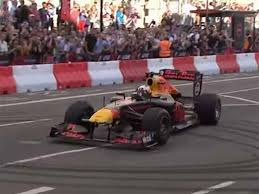FormulaOneCar: (48, 65, 224, 154)
